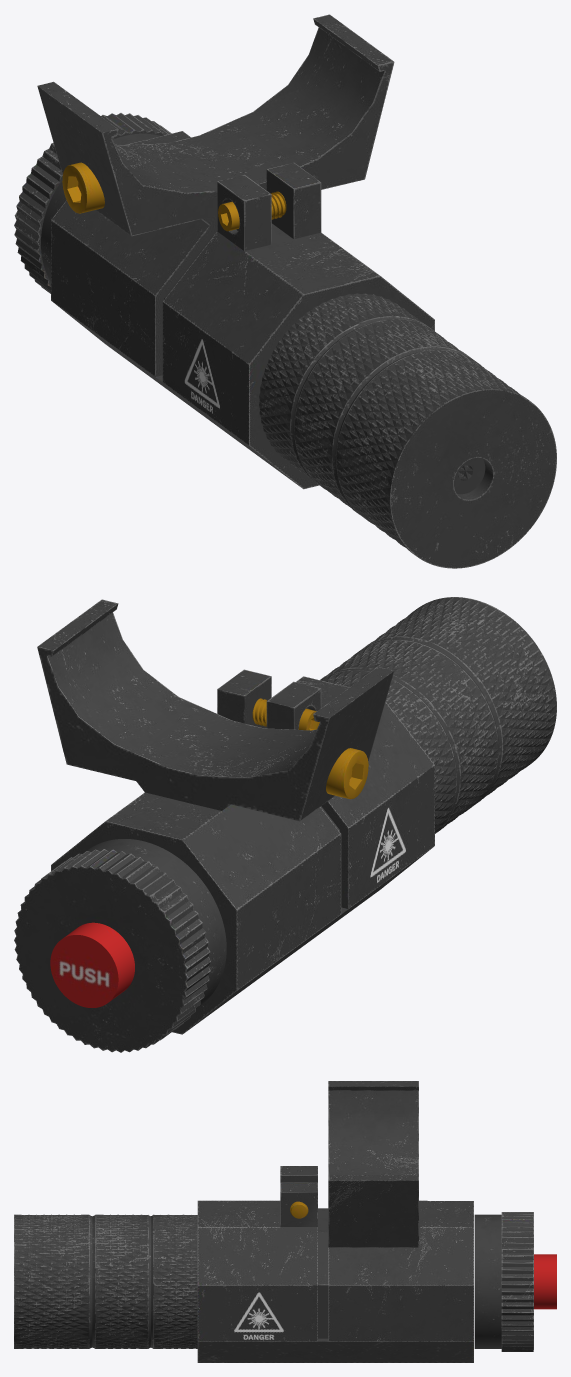
The model's file is laser.fbx.
The picture shows the model from 3 angles, top to bottom: view 1: azimuth 30°, elevation 25°; view 2: azimuth 150°, elevation 25°; view 3: azimuth 270°, elevation 25°; orthographic projection. The views are drawn at different scales.
Parts seen in each view (by area): view 1: defaultMaterial; view 2: defaultMaterial; view 3: defaultMaterial.
Part boxes in pixels (x1,y1,x2,y2): defaultMaterial: [14, 14, 556, 568]; defaultMaterial: [14, 597, 556, 1052]; defaultMaterial: [14, 1081, 556, 1362].
Bounding box in the file's own units: 19.52 × 20.01 × 44.98.
Materials: 1 (1 with a texture image).
